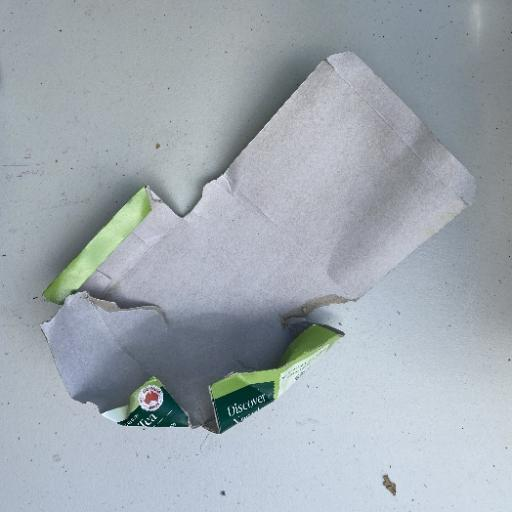Cardboard: (38, 49, 478, 434)
